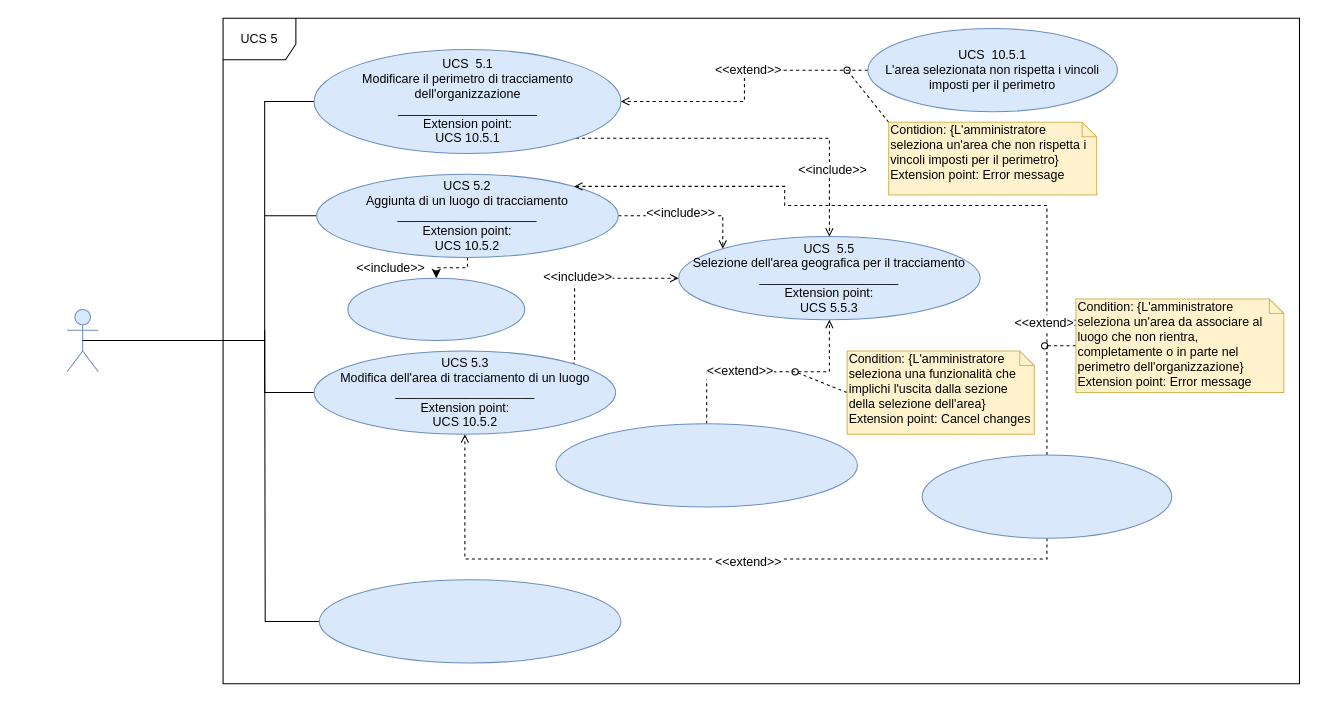
Some shapes in this 1318 by 702 pixel diagram are drawn without their labels. The box of each missing label's shape, as (x1, y1, x2, y2) in pixels:
Amministratore gestore: (66, 308, 98, 372)
UCS 10.5.2 L'area selezionata fuoriesce dall'area che definisce il perimetro: (921, 454, 1172, 538)
UCS 5.2.1 Inseimento del nome del luogo di tracciamento: (347, 277, 525, 341)
UCS 5.4 Eliminazione di un luogo di tracciamento: (318, 579, 621, 663)
UCS 5.5.3 Annullamento della selezione dell'area geografica: (555, 423, 857, 507)
